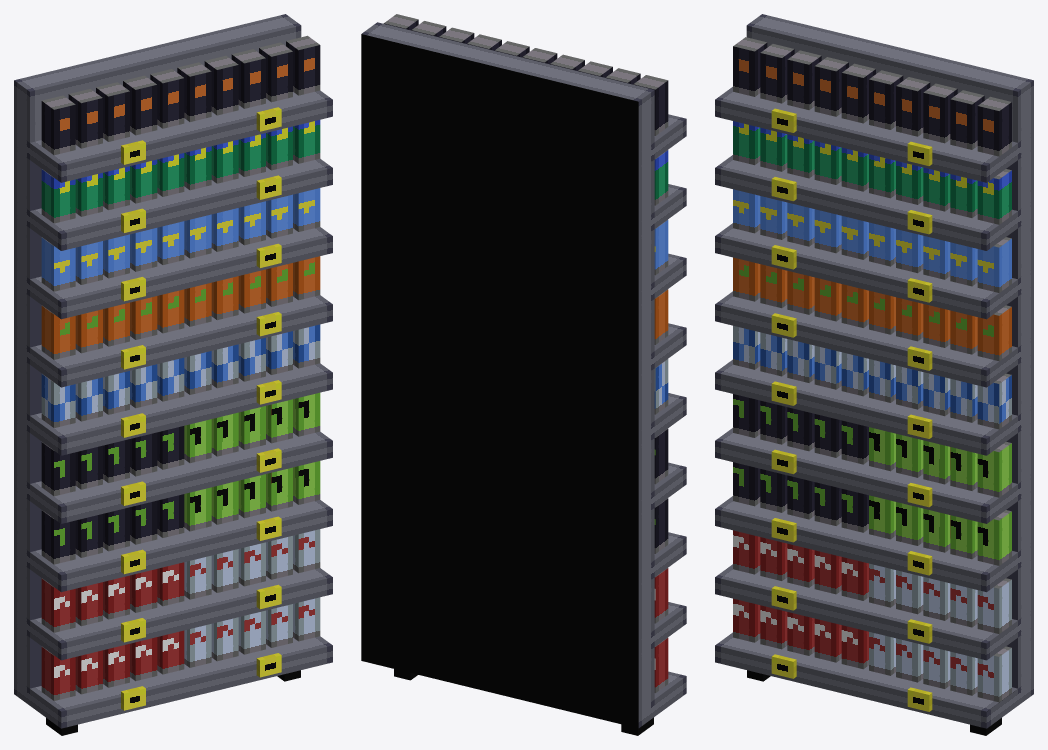
Rendered from ShelfCans.glb.
The picture shows the model from 3 angles, left to right: view 1: azimuth 30°, elevation 25°; view 2: azimuth 150°, elevation 25°; view 3: azimuth 330°, elevation 25°; orthographic projection. The views are drawn at different scales.
Visible parts, largest first — view 1: ShelfCans; view 2: ShelfCans; view 3: ShelfCans.
Part boxes in pixels (x1=…): ShelfCans: x1=14, y1=14, x2=332, y2=735; ShelfCans: x1=361, y1=14, x2=686, y2=735; ShelfCans: x1=715, y1=14, x2=1033, y2=735.
Size of the model in its own units: 50 by 112 by 16.
Materials: 1 (1 with a texture image).
